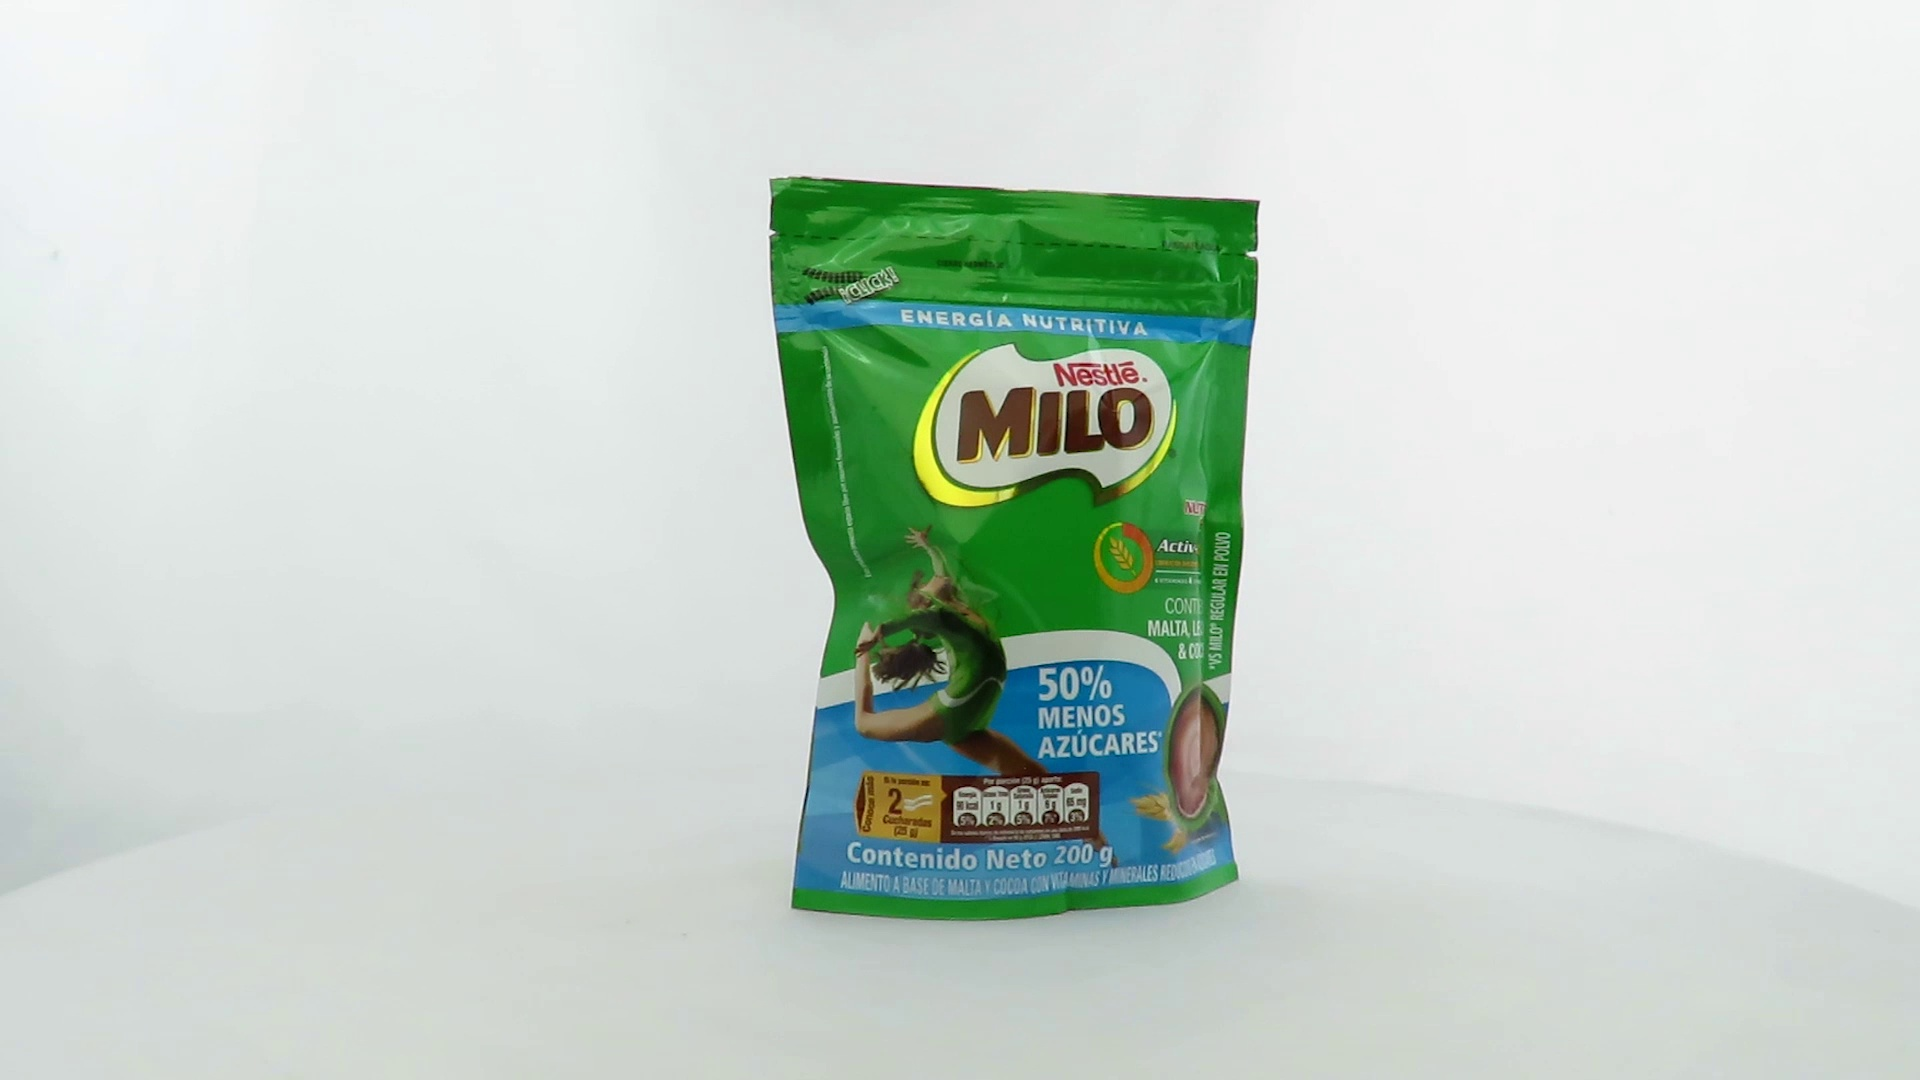COL0170205DYP20000: (764, 171, 1266, 928)
